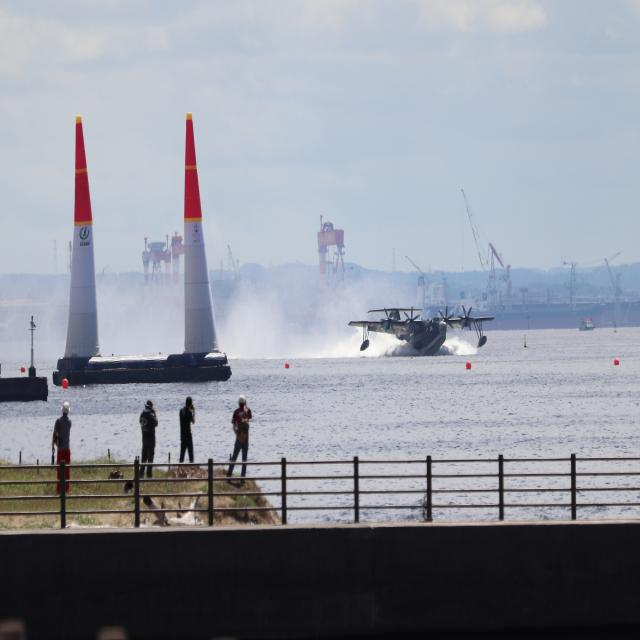MIL_Plane: (348, 304, 495, 356)
